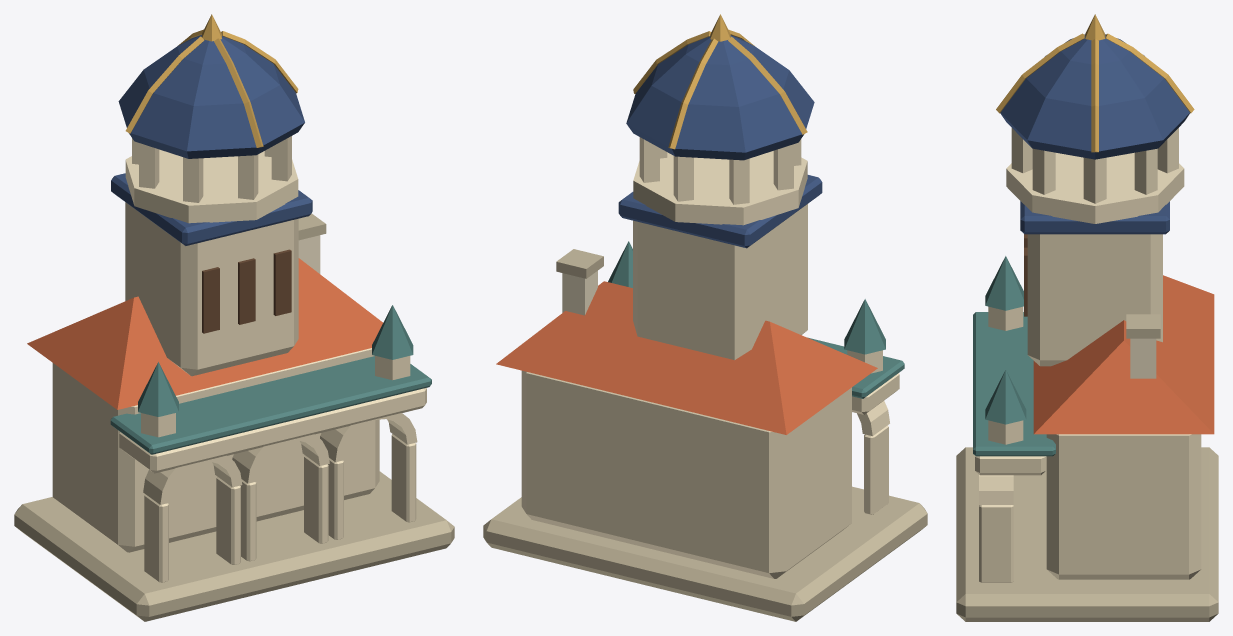
File: ns-hall-4.glb
3 renders of one model, left to right at view 1: azimuth 30°, elevation 25°; view 2: azimuth 150°, elevation 25°; view 3: azimuth 270°, elevation 25°, orthographic.
Visible parts, largest first — view 1: Cube; view 2: Cube; view 3: Cube.
Boxes of the visible parts, bbox=[...] form: Cube: bbox=[14, 14, 454, 621]; Cube: bbox=[483, 14, 927, 621]; Cube: bbox=[956, 14, 1218, 621].
Bounding box in the file's own units: 0.85 × 1.35 × 0.61.
